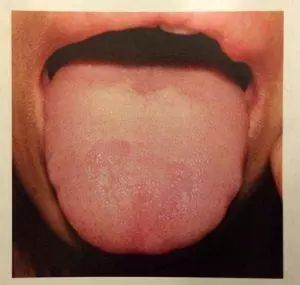chihenshe: (222, 139, 248, 217)
hongshe: (44, 52, 249, 255)
huangtaishe: (44, 52, 249, 255)
pangdashe: (44, 52, 249, 255)
